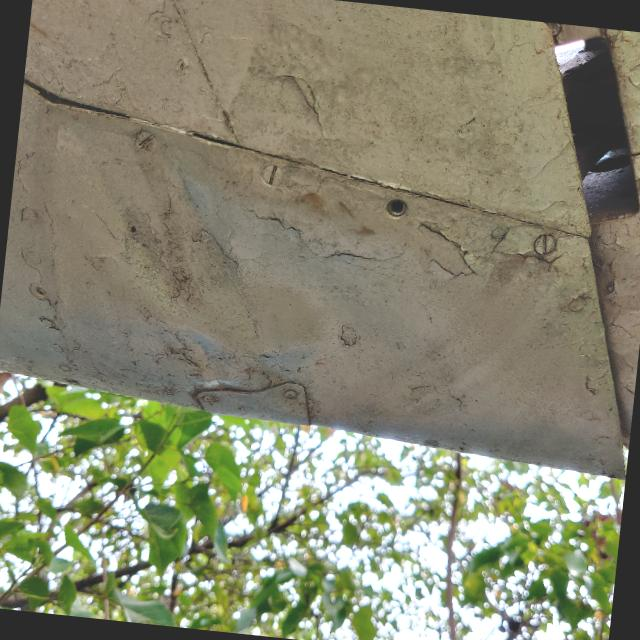dent: (78, 154, 375, 443)
